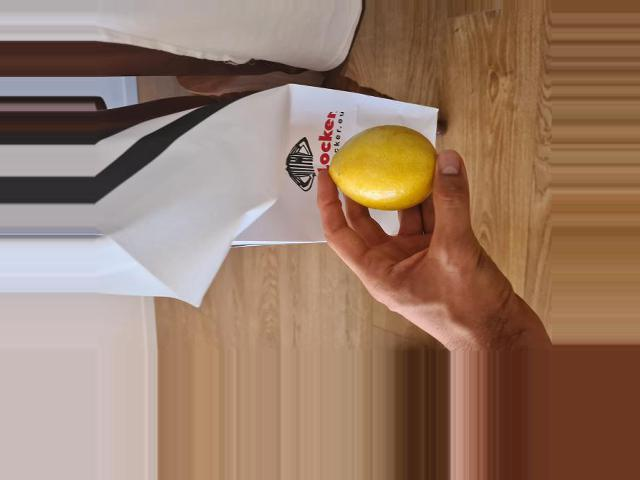lemon: (334, 121, 437, 214)
